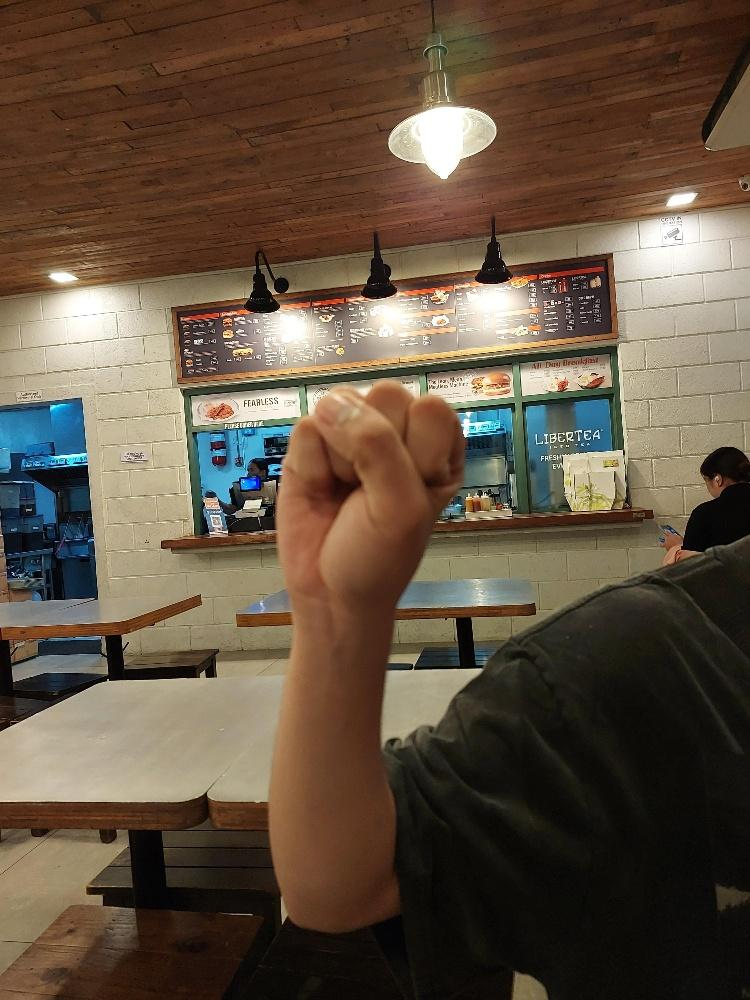s: (271, 377, 465, 611)
